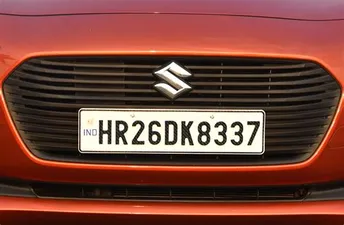number_plate: (79, 111, 267, 156)
